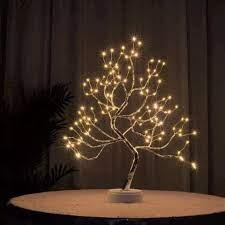Lamp: (60, 31, 202, 207)
